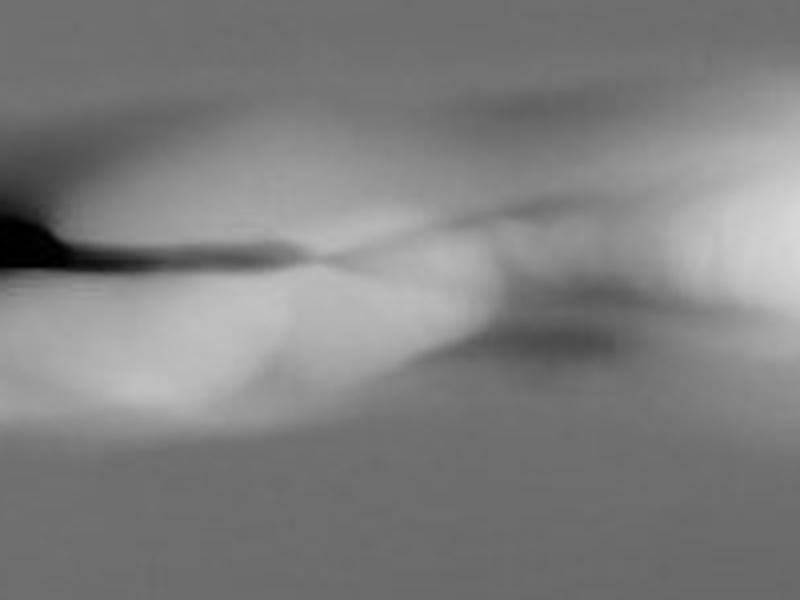defect: (1, 213, 82, 270)
